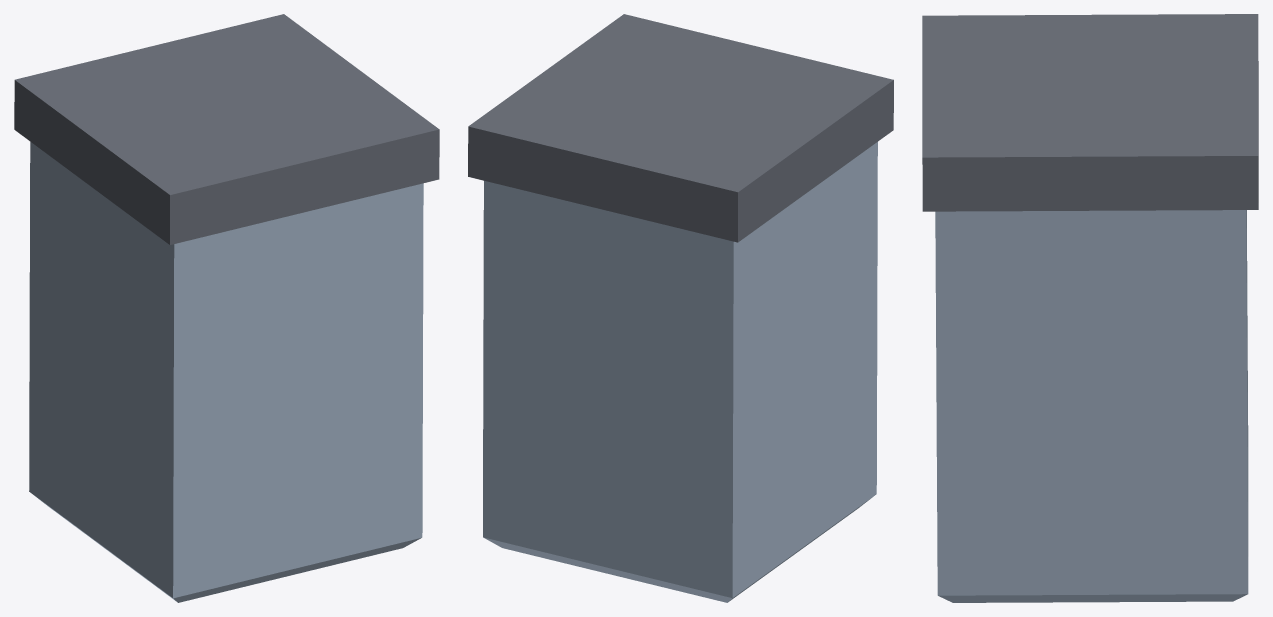
File: room_box.glb
3 renders of one model, left to right at view 1: azimuth 30°, elevation 25°; view 2: azimuth 150°, elevation 25°; view 3: azimuth 270°, elevation 25°, orthographic. The views are drawn at different scales.
Visible parts, largest first — view 1: cesto.001_baixo_0.001, cesto.001_baixo_0.002; view 2: cesto.001_baixo_0.001, cesto.001_baixo_0.002; view 3: cesto.001_baixo_0.001, cesto.001_baixo_0.002.
Part boxes in pixels (<box>): cesto.001_baixo_0.001: <box>29,142,423,602</box>; cesto.001_baixo_0.002: <box>14,14,439,244</box>; cesto.001_baixo_0.001: <box>483,142,877,602</box>; cesto.001_baixo_0.002: <box>468,14,893,242</box>; cesto.001_baixo_0.001: <box>935,210,1248,602</box>; cesto.001_baixo_0.002: <box>922,14,1258,211</box>.
Bounding box in the file's own units: 0.592 × 0.8926 × 0.5925.
